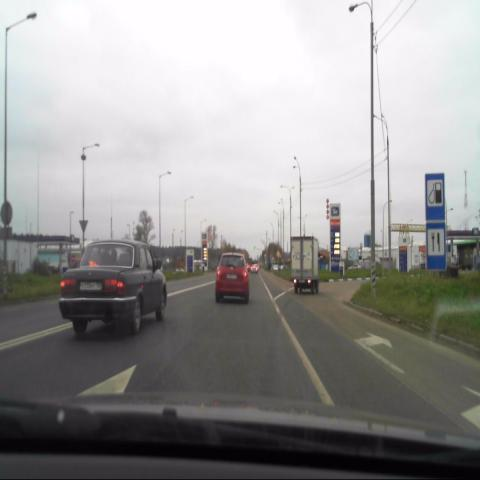7_3: (424, 171, 444, 225)
7_7: (426, 224, 446, 271)
